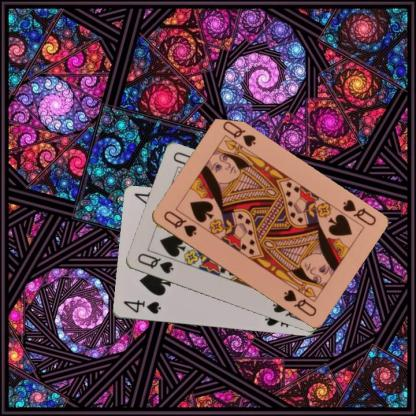4s: (120, 298, 162, 316)
Qs: (160, 208, 198, 239), (339, 197, 377, 227), (134, 250, 174, 275)
